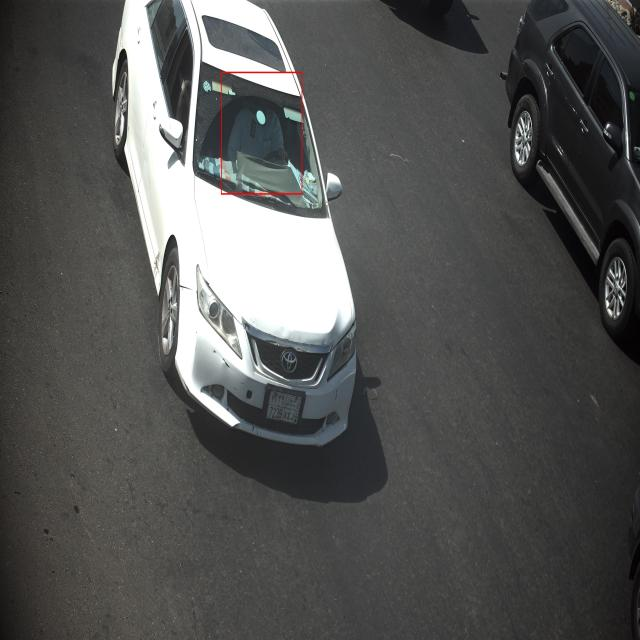windshield: (192, 58, 324, 220)
